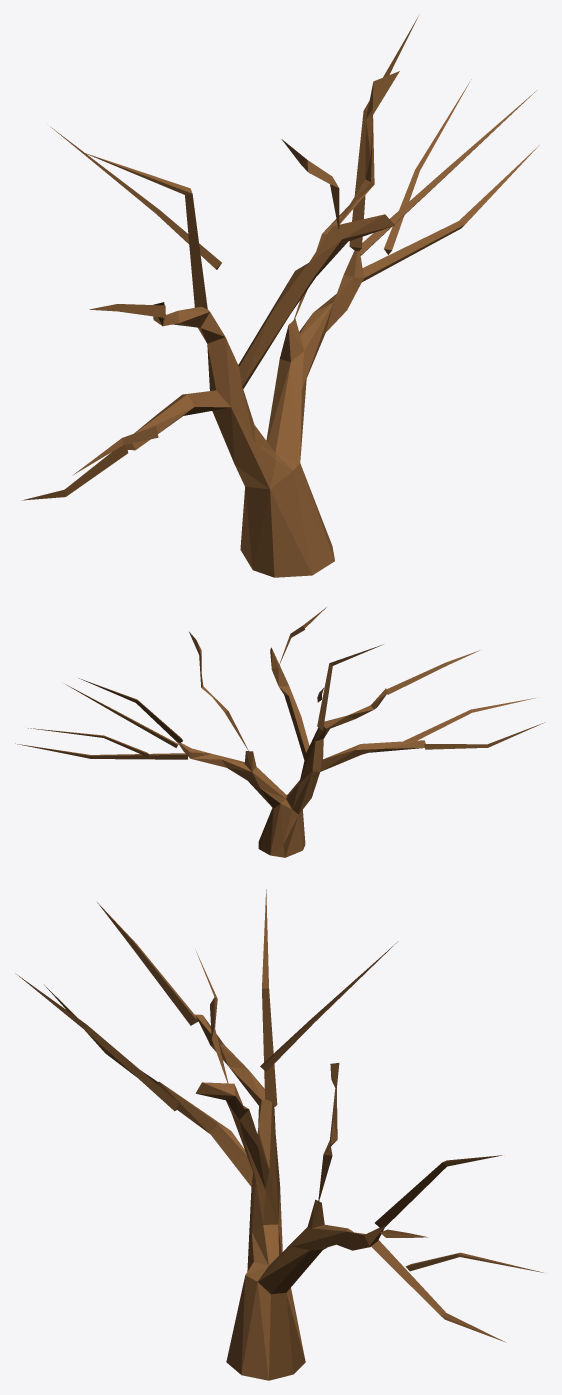
File: jacaranda_1_bare_far.glb
The picture shows the model from 3 angles, top to bottom: view 1: azimuth 30°, elevation 25°; view 2: azimuth 150°, elevation 25°; view 3: azimuth 270°, elevation 25°; orthographic projection. The views are drawn at different scales.
Parts seen in each view (by area): view 1: jacaranda_1_bare_far; view 2: jacaranda_1_bare_far; view 3: jacaranda_1_bare_far.
Part boxes in pixels (bbox=[...]): jacaranda_1_bare_far: bbox=[21, 16, 539, 577]; jacaranda_1_bare_far: bbox=[15, 607, 545, 857]; jacaranda_1_bare_far: bbox=[15, 889, 543, 1380].
Bounding box in the file's own units: 9.68 × 5.4 × 6.63.
